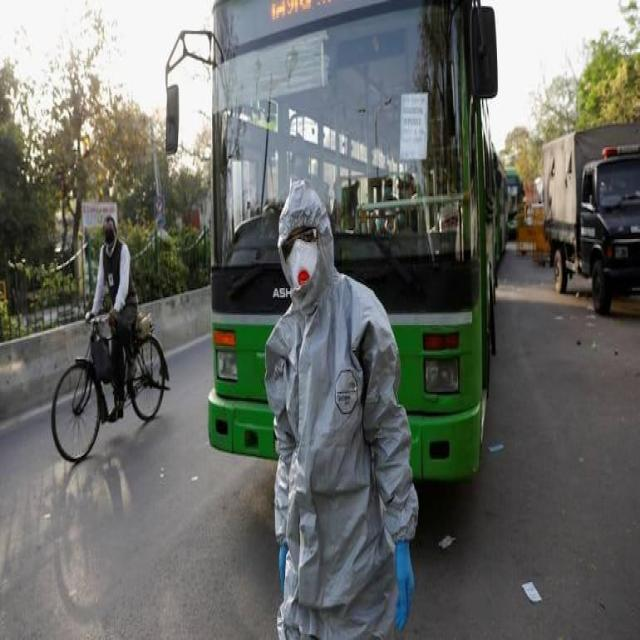Coverall: (263, 187, 419, 636)
Gloves: (391, 541, 415, 631), (277, 541, 288, 593)
Goggles: (278, 229, 320, 251)
Mask: (287, 239, 316, 287)
